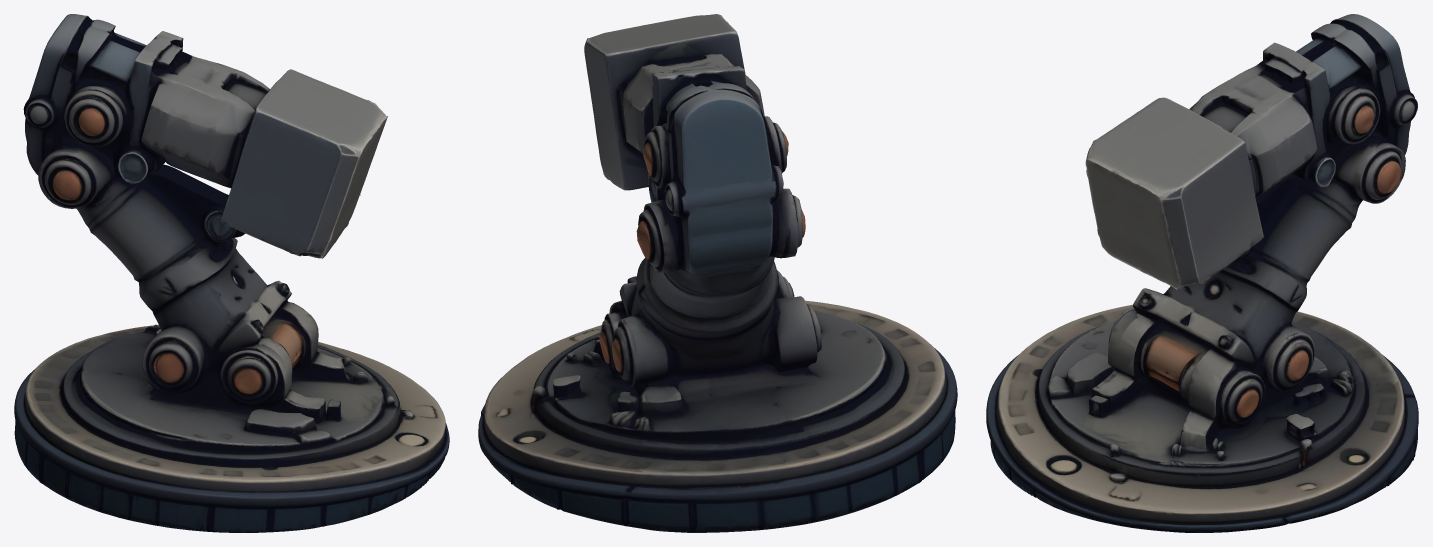
Rendered from mechanical-hammer.fbx.
3 renders of one model, left to right at view 1: azimuth 30°, elevation 25°; view 2: azimuth 150°, elevation 25°; view 3: azimuth 270°, elevation 25°, orthographic. The views are drawn at different scales.
Parts seen in each view (by area): view 1: tripo_node_1eb3aaae; view 2: tripo_node_1eb3aaae; view 3: tripo_node_1eb3aaae.
Part boxes in pixels (bbox=[...]): tripo_node_1eb3aaae: bbox=[14, 14, 449, 532]; tripo_node_1eb3aaae: bbox=[478, 14, 957, 532]; tripo_node_1eb3aaae: bbox=[986, 14, 1418, 532].
Bounding box in the file's own units: 1 × 0.9845 × 1.
Materials: 1 (1 with a texture image).
